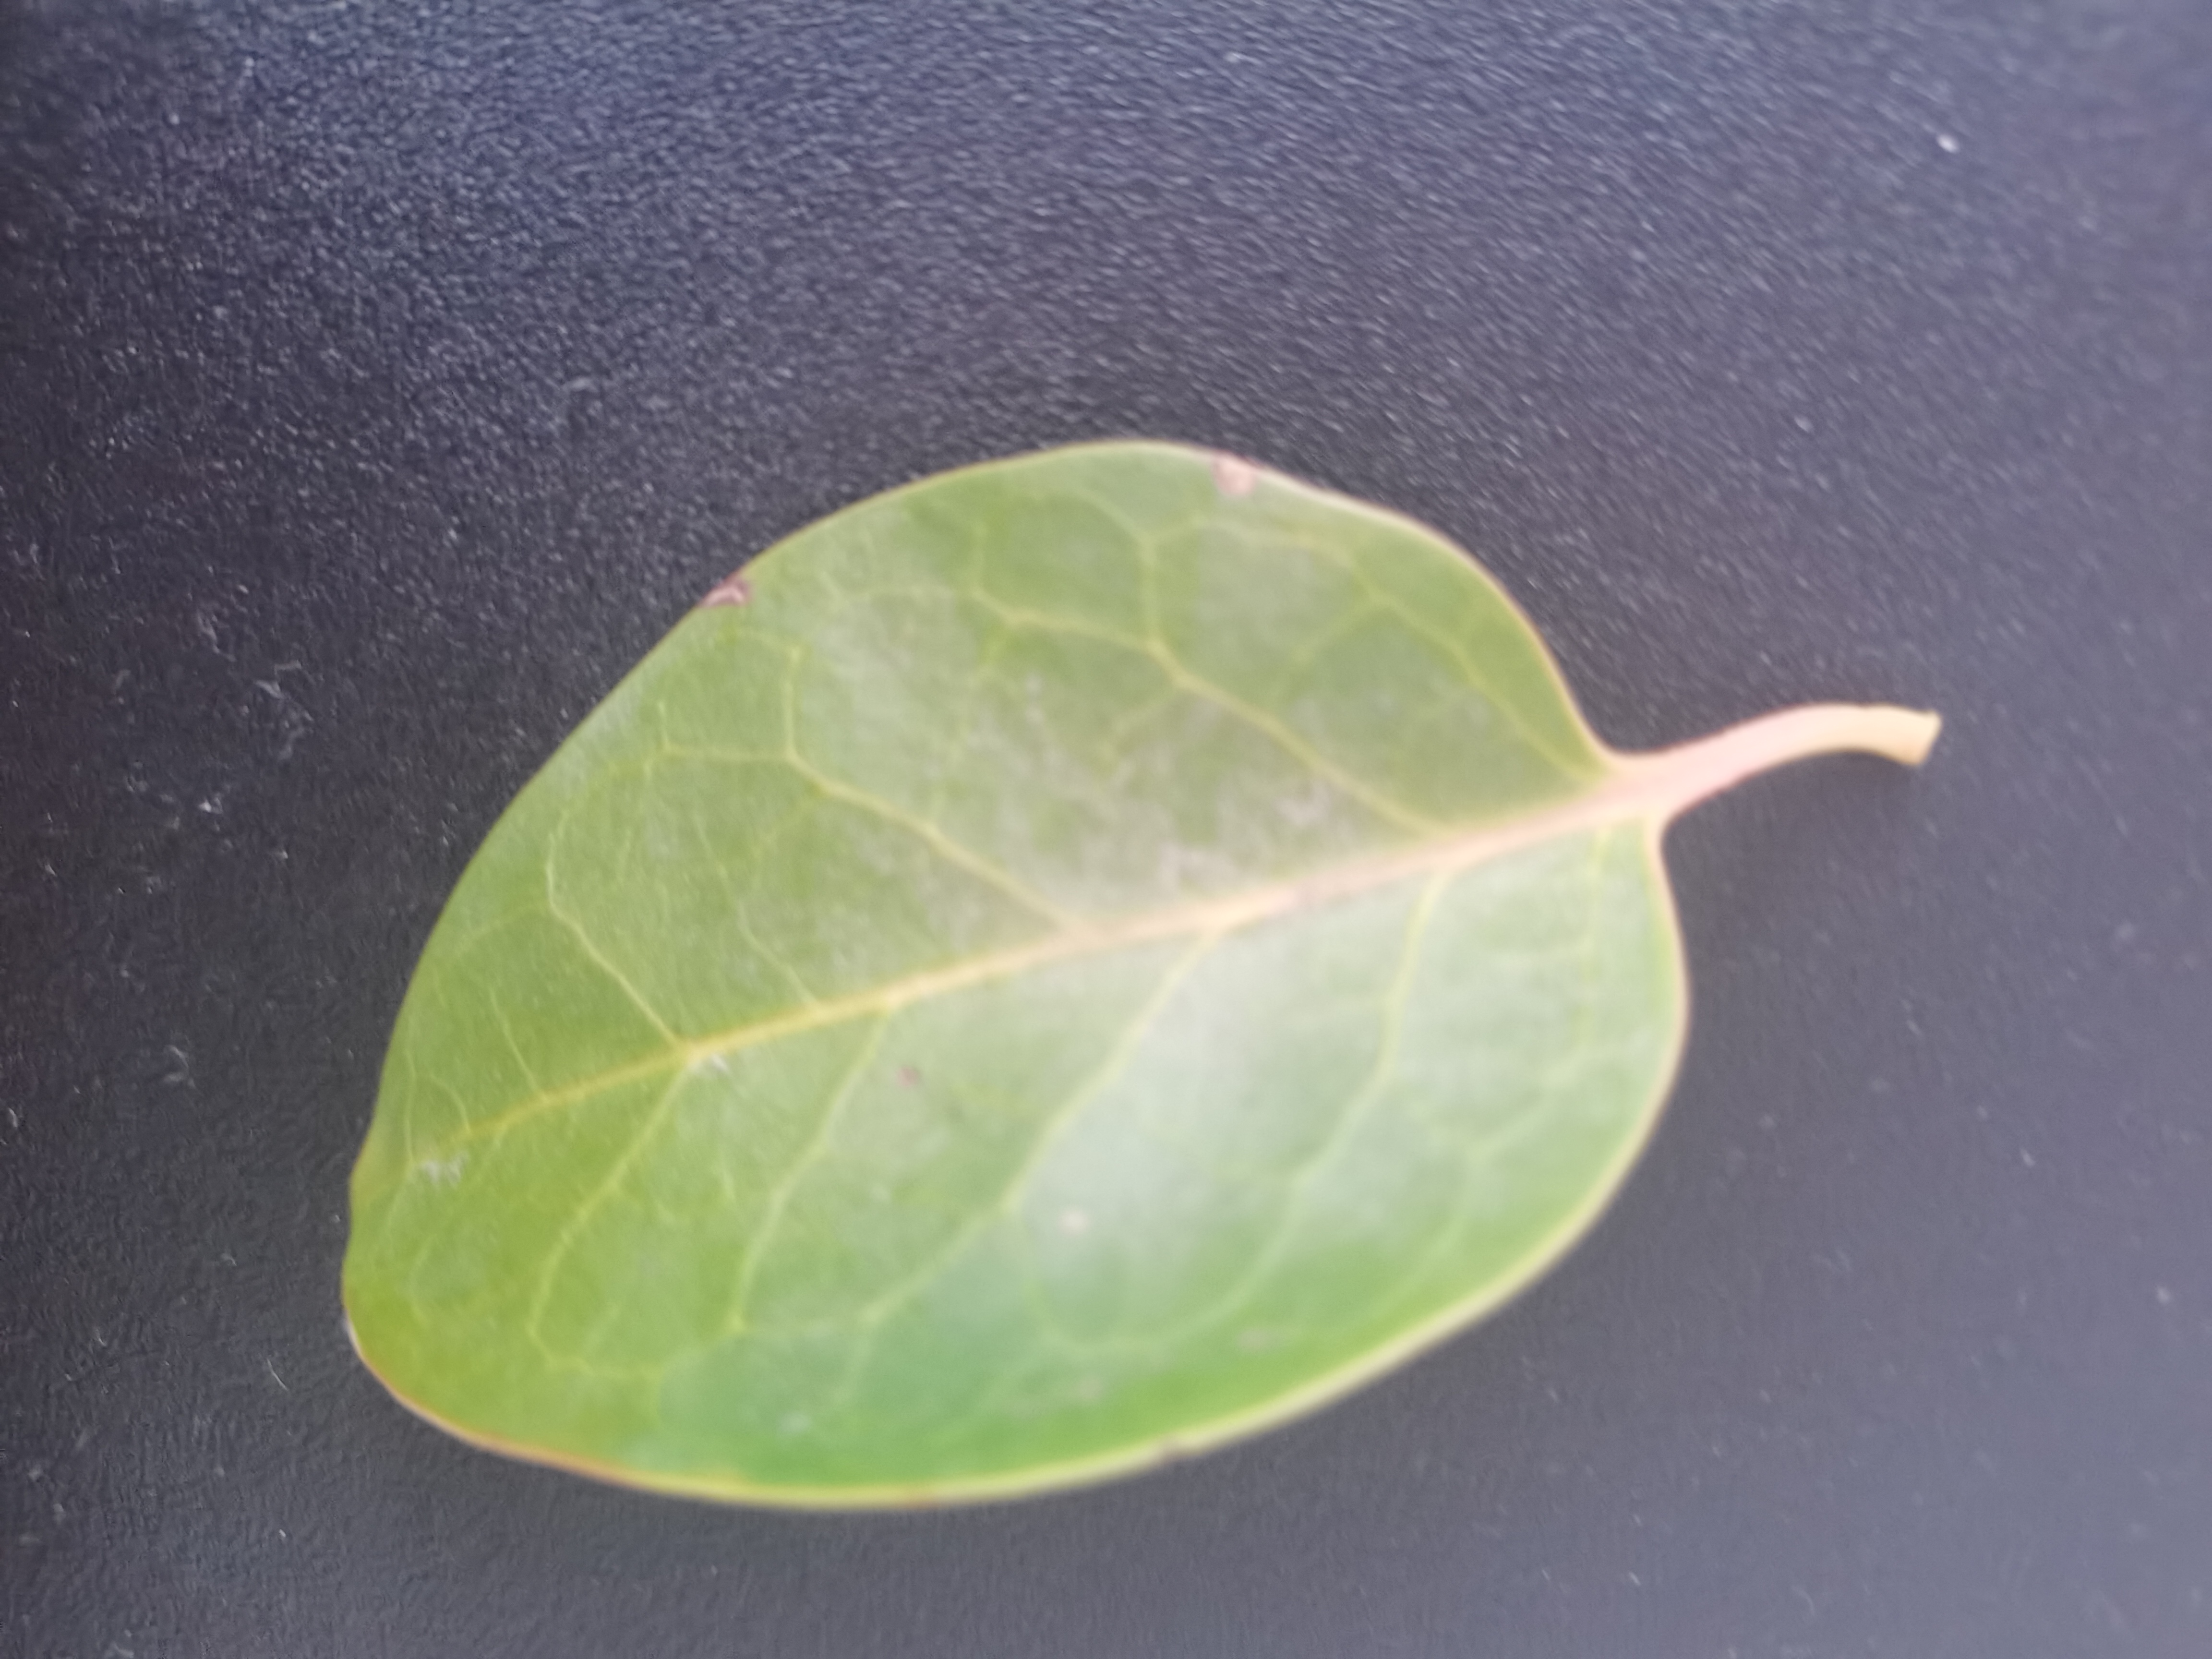4/易腐垃圾/叶子: (334, 439, 1946, 1516)
